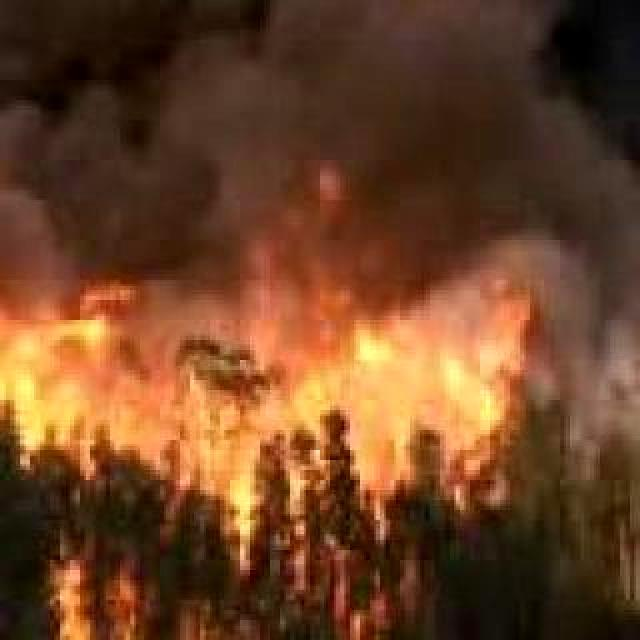fire: (0, 144, 544, 640)
